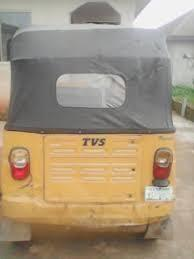keke: (2, 13, 186, 258)
